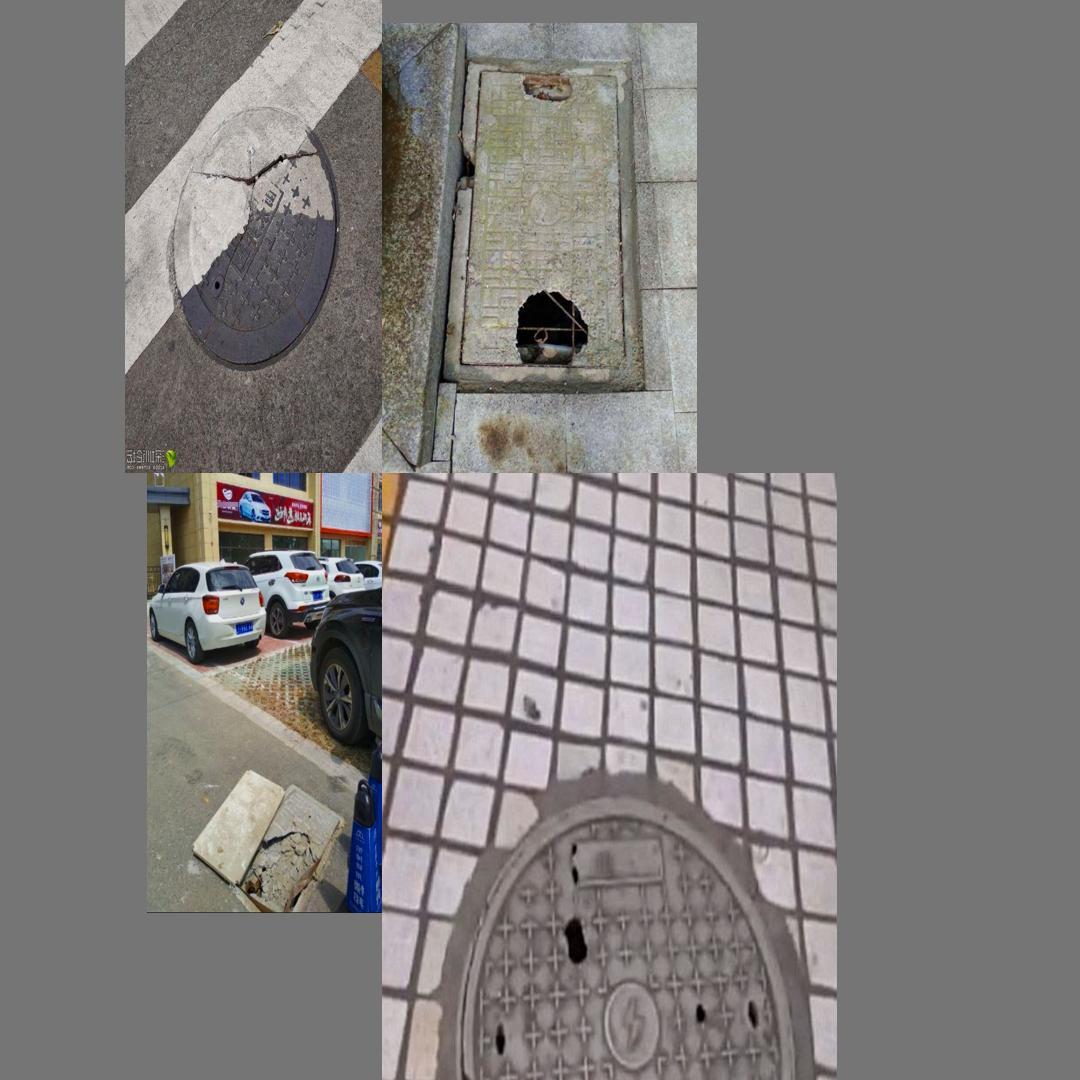broke: (460, 807, 797, 1080), (444, 55, 641, 384), (159, 91, 349, 372), (223, 810, 342, 905)
